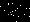person: (9, 9, 13, 21), (14, 9, 18, 21)
